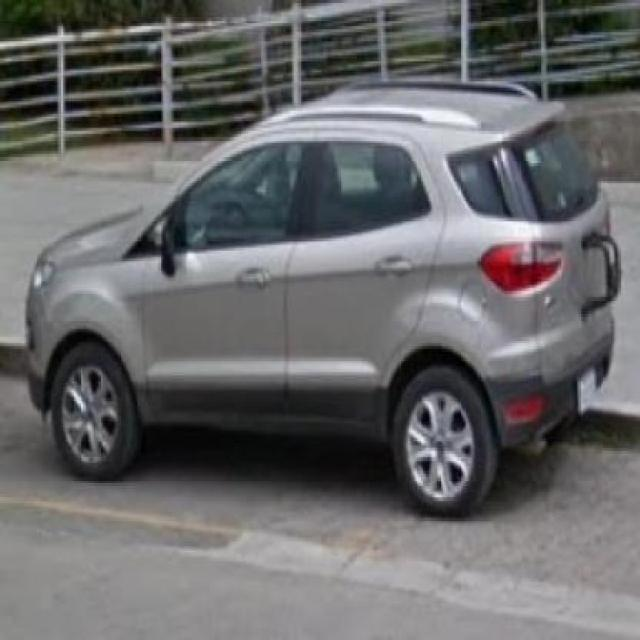car: (26, 75, 620, 512)
